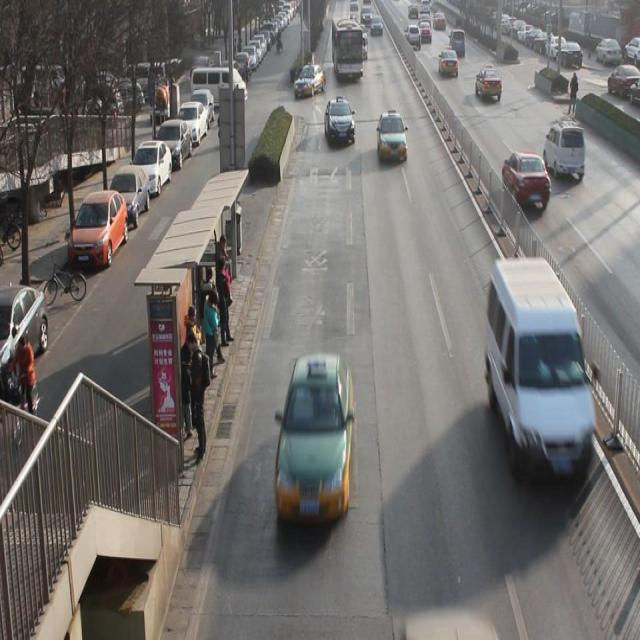car: (280, 358, 351, 525), (547, 121, 587, 184), (502, 153, 550, 205), (378, 110, 408, 167), (325, 99, 354, 143), (476, 62, 504, 104), (300, 62, 326, 96), (438, 46, 459, 77), (449, 28, 468, 59), (419, 19, 434, 46), (406, 25, 421, 50), (356, 34, 369, 60)
truck: (487, 262, 600, 488)
